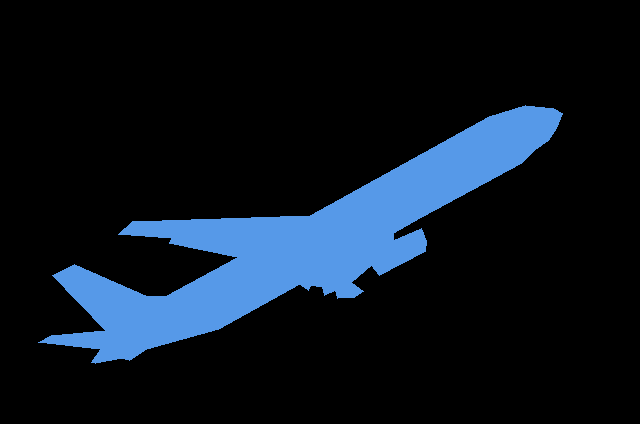Airplane: (38, 105, 563, 364)
